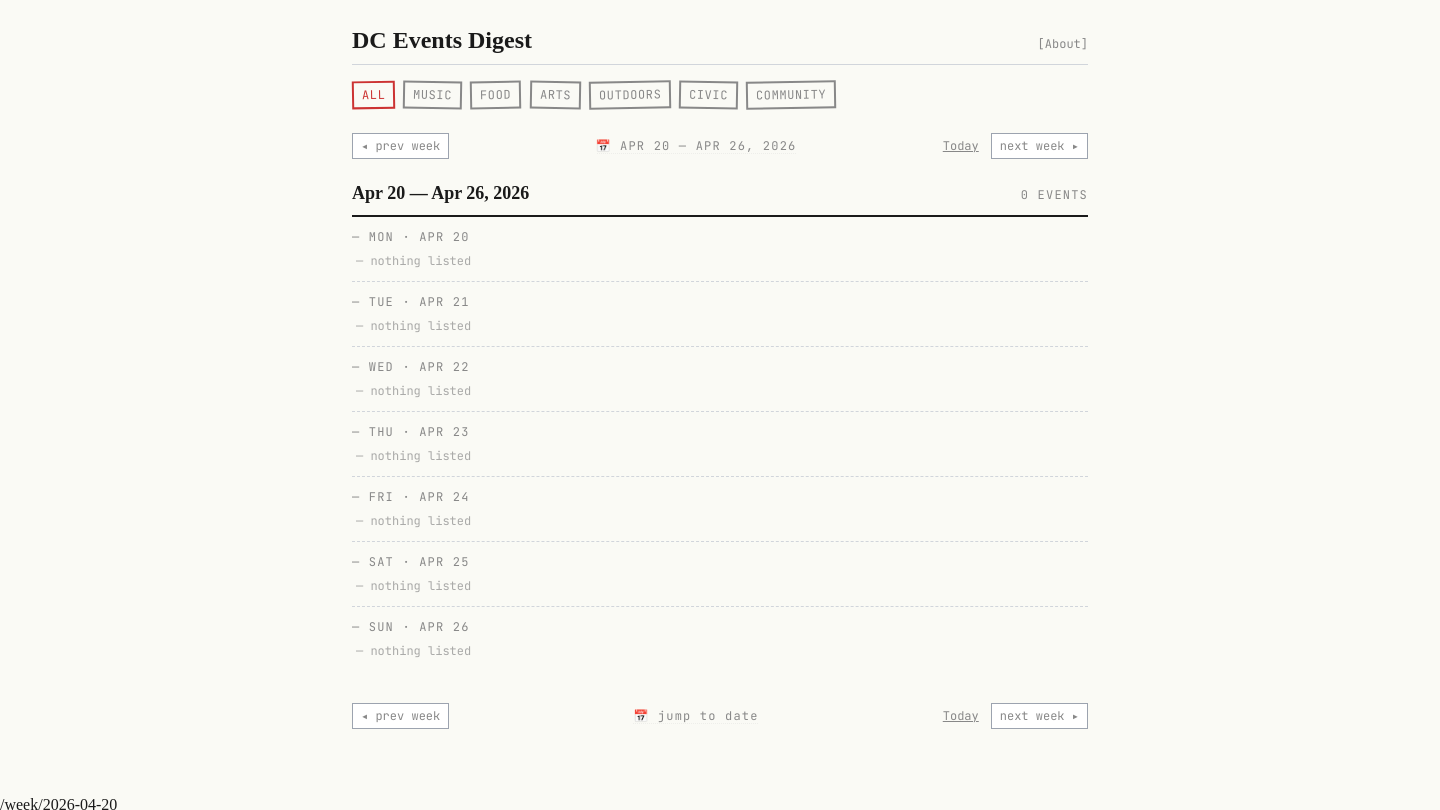
Test case: CalendarPage date picker and filters › picking a date in the popup jumps to that date's week
Click the button with aria-label "jump to date": x=696, y=146 x1=596 y1=138 x2=796 y2=154
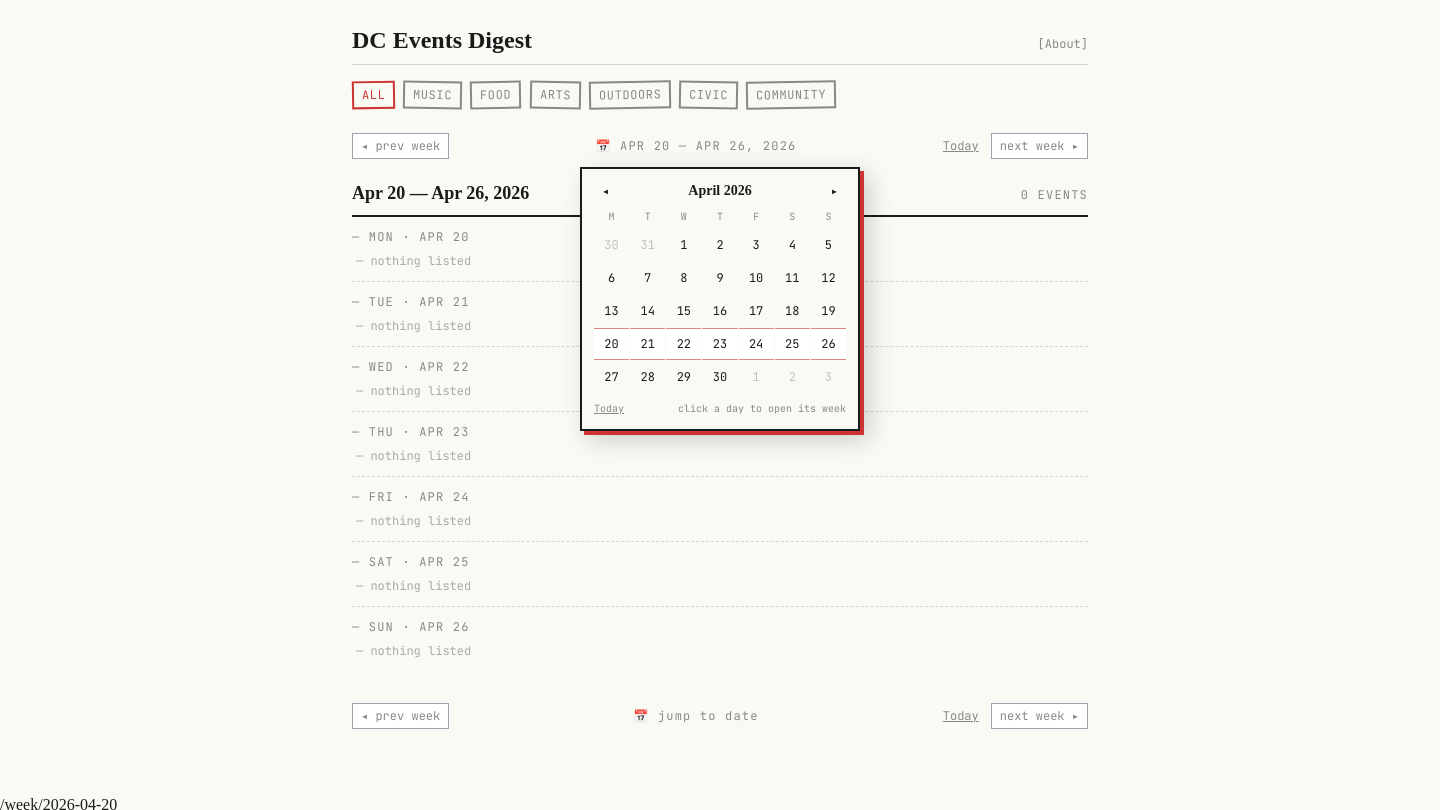
Click the button named "next month": x=834, y=191 x1=823 y1=181 x2=846 y2=201
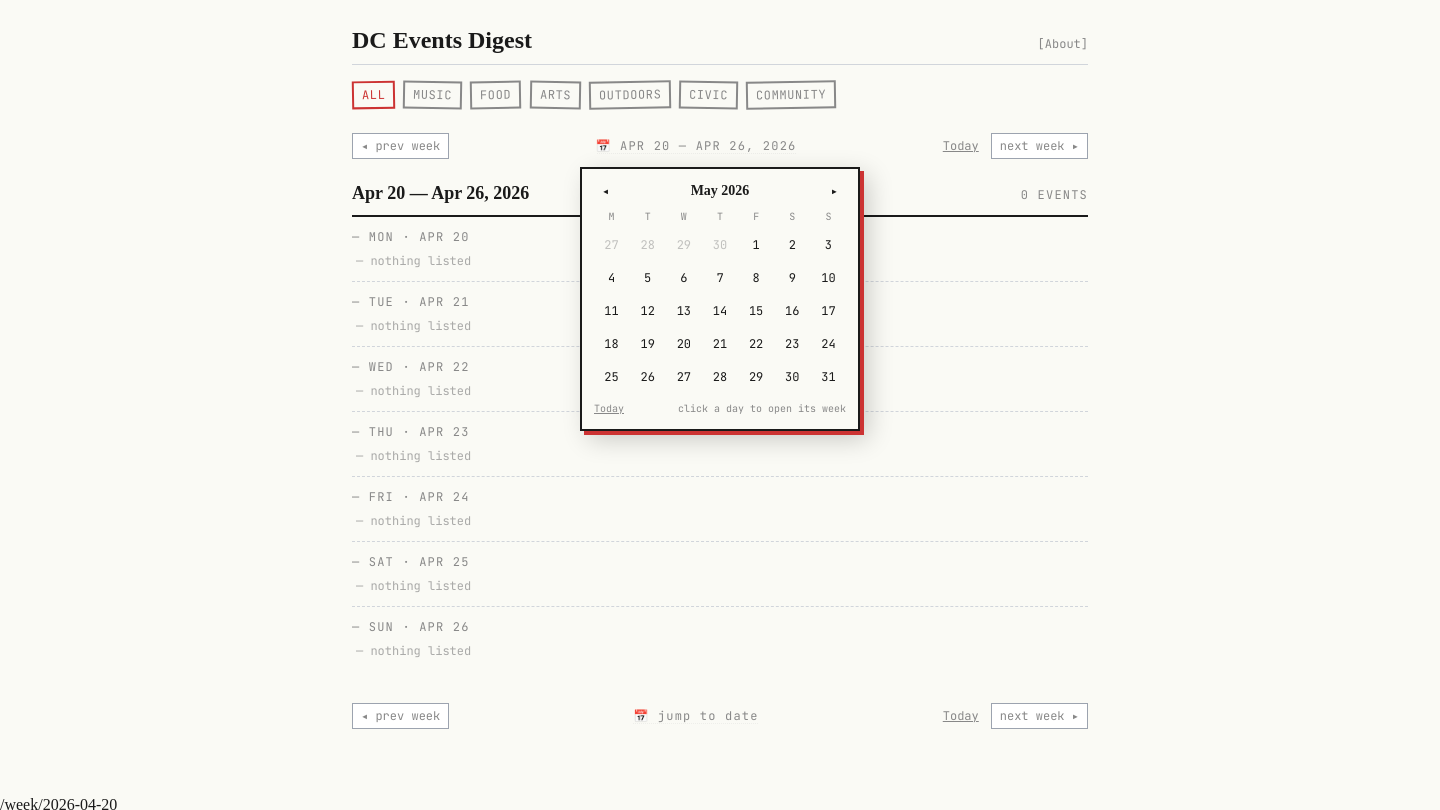
Click the button with test id "pick-2026-05-14": x=720, y=311 x1=702 y1=295 x2=738 y2=327
(page scrolled)
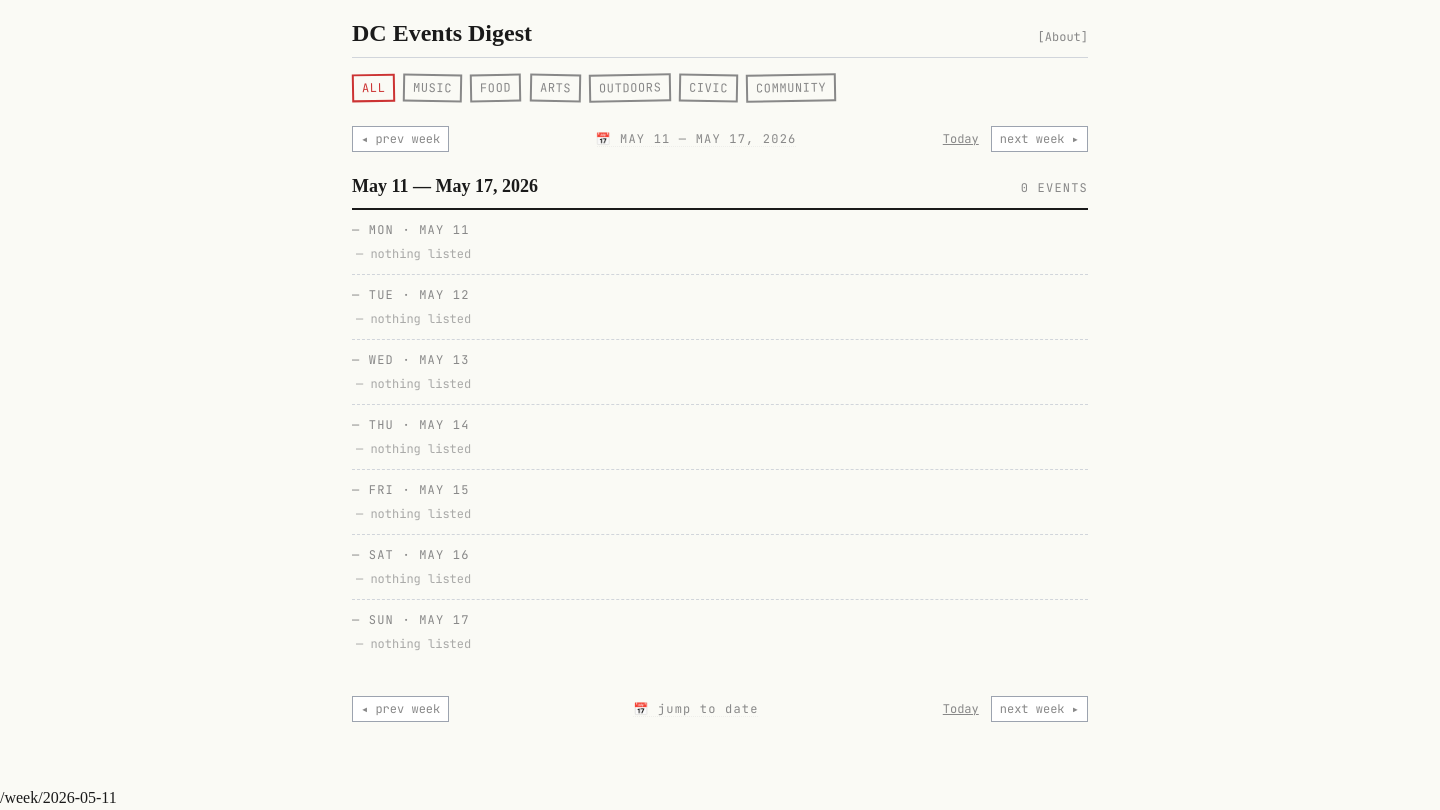
Check: the text with test id "loc" reads "/week/2026-05-11", box x1=0 y1=789 x2=117 y2=806
Check: the dialog is gone
